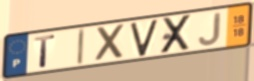I: (76, 27, 86, 67)
J: (197, 11, 223, 47)
T: (33, 33, 58, 69)
V: (128, 17, 160, 58)
X: (158, 13, 194, 56), (95, 22, 128, 64)
